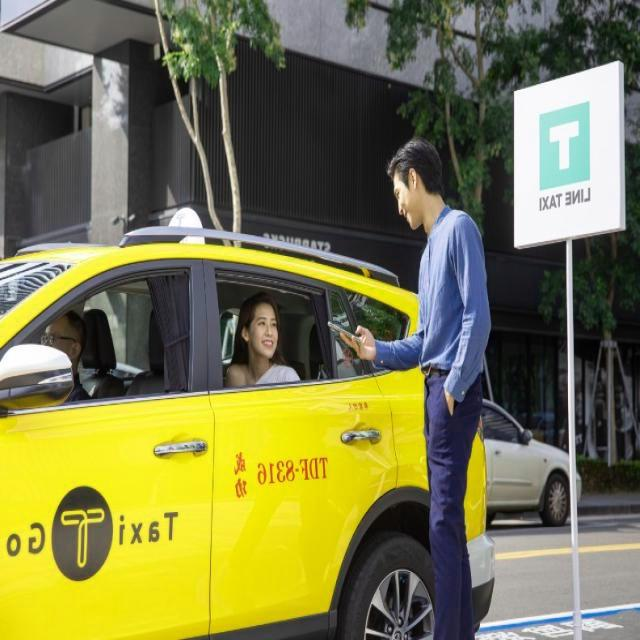taxi: (1, 206, 515, 608)
